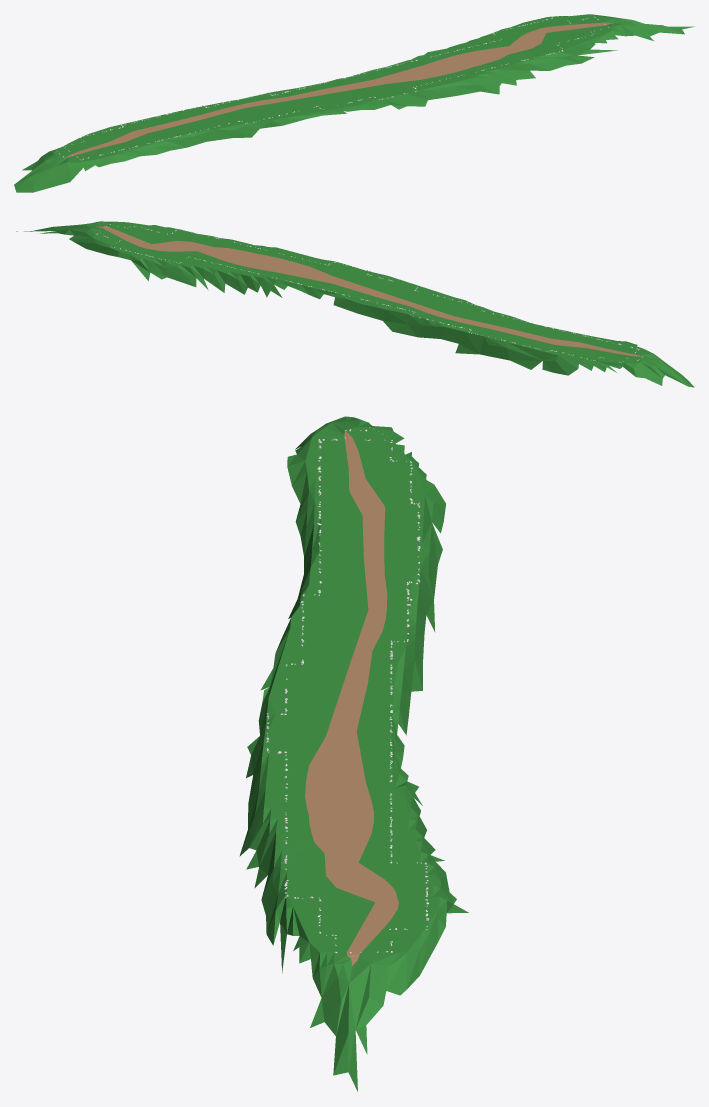
Rendered from landscape.fbx.
3 renders of one model, top to bottom at view 1: azimuth 30°, elevation 25°; view 2: azimuth 150°, elevation 25°; view 3: azimuth 270°, elevation 25°, orthographic. The views are drawn at different scales.
Parts seen in each view (by area): view 1: inner_grass, outer_grass, dirt, rock_borders; view 2: inner_grass, outer_grass, dirt, rock_borders; view 3: inner_grass, outer_grass, dirt, rock_borders.
Part boxes in pixels (x1,y1,x2,y2): inner_grass: (54, 15, 629, 166); outer_grass: (14, 14, 694, 192); dirt: (65, 22, 613, 157); rock_borders: (59, 16, 608, 160); inner_grass: (83, 221, 659, 362); outer_grass: (16, 221, 694, 387); dirt: (96, 226, 641, 356); rock_borders: (96, 224, 642, 362); inner_grass: (264, 422, 439, 983); outer_grass: (239, 416, 468, 1091); dirt: (305, 431, 398, 965); rock_borders: (266, 429, 429, 953).
Bounding box in the file's own units: 2444 × 93.01 × 361.
